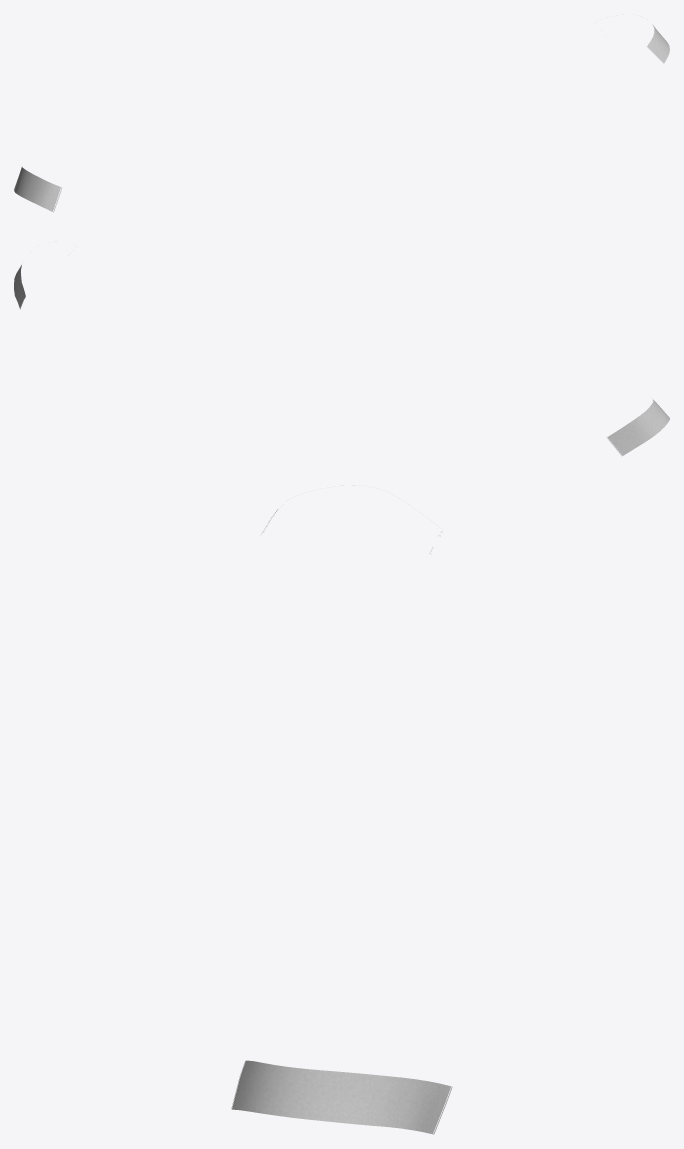
File: COP_Arm_Down.glb
The picture shows the model from 3 angles, top to bottom: view 1: azimuth 30°, elevation 25°; view 2: azimuth 150°, elevation 25°; view 3: azimuth 270°, elevation 25°; orthographic projection. The views are drawn at different scales.
Parts seen in each view (by area): view 1: COP_Arm_Down1; view 2: COP_Arm_Down1; view 3: COP_Arm_Down1.
Part boxes in pixels (x1,y1,x2,y2): COP_Arm_Down1: (14,24,669,212); COP_Arm_Down1: (14,241,669,456); COP_Arm_Down1: (231,485,452,1134).
Bounding box in the file's own units: 1.44 × 0.0844 × 0.2164.
Materials: 1 (1 with a texture image).
